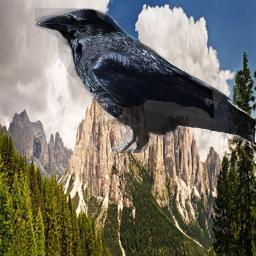Crow: (35, 8, 255, 153)
